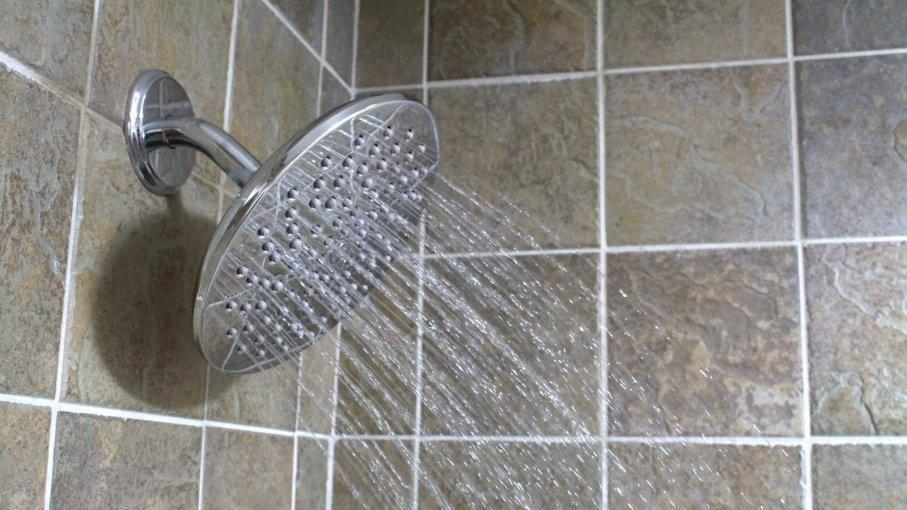Ducha: (0, 0, 906, 508)
